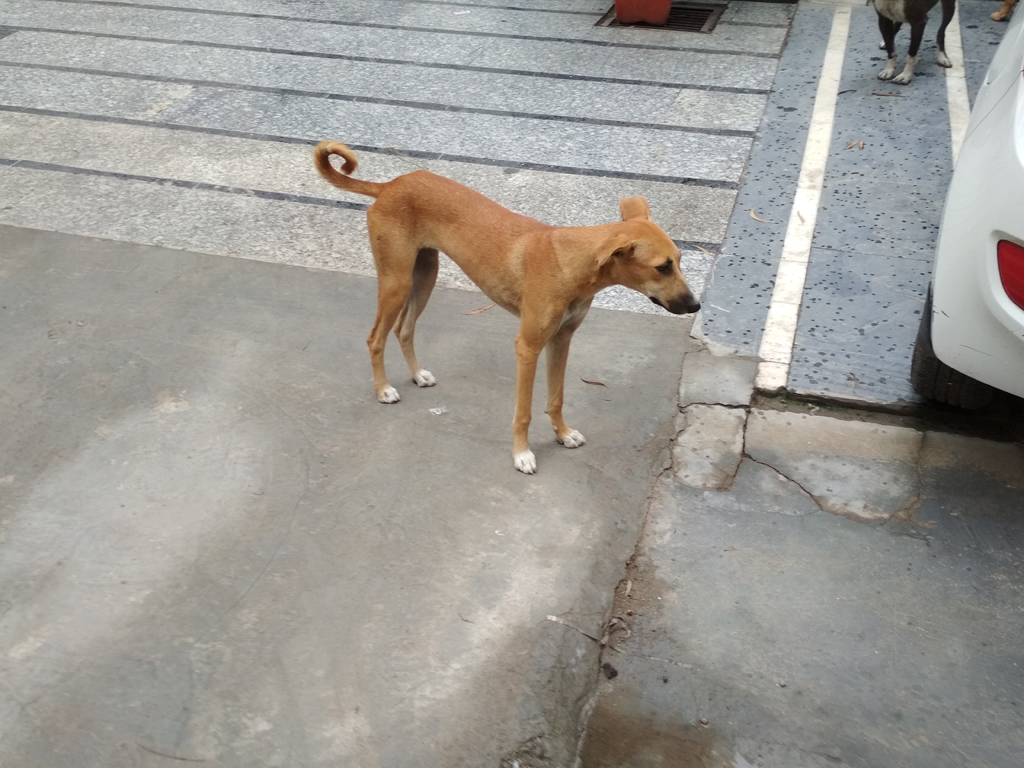dog: (313, 141, 701, 474), (859, 1, 961, 85)
